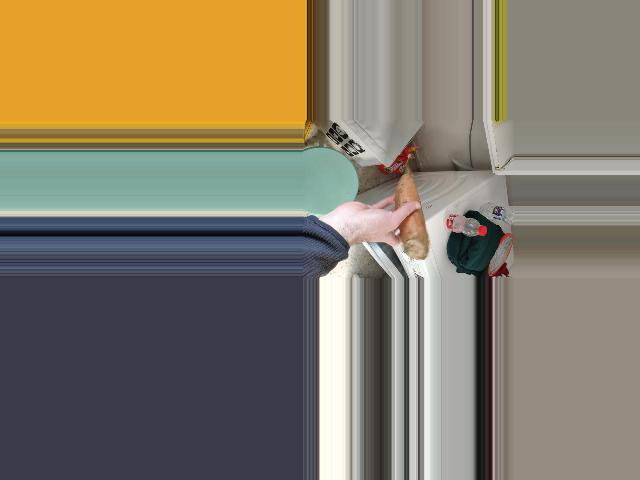sweet_potato: (398, 169, 421, 260)
